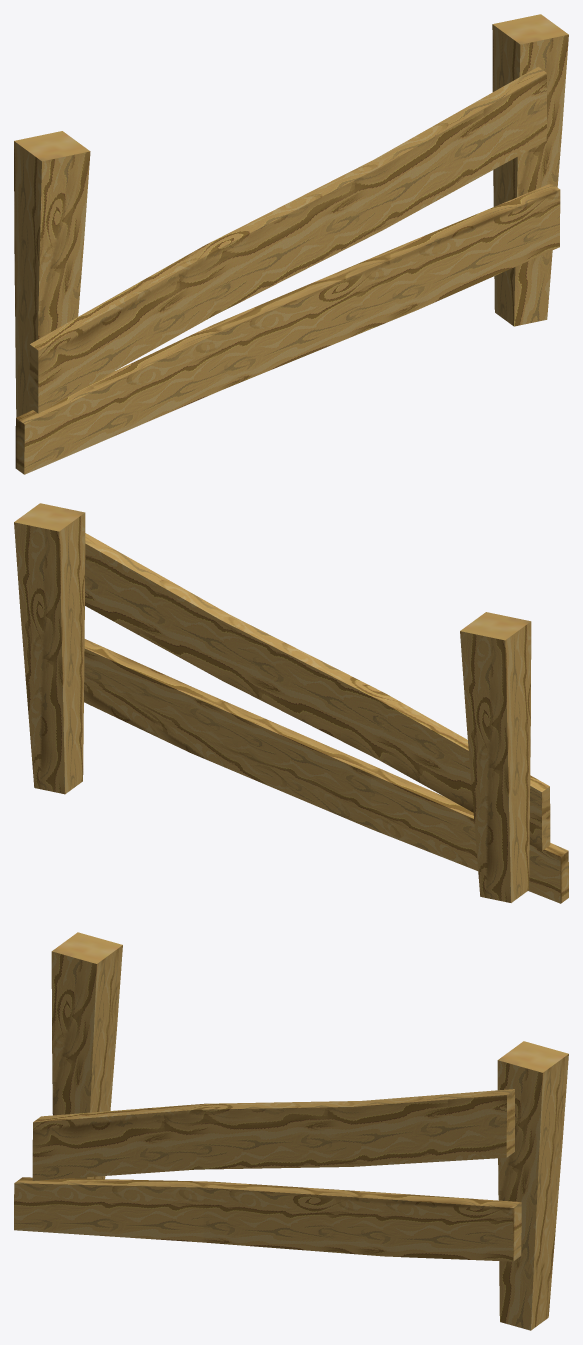
The model's file is Fence_02.FBX.
The picture shows the model from 3 angles, top to bottom: view 1: azimuth 30°, elevation 25°; view 2: azimuth 150°, elevation 25°; view 3: azimuth 330°, elevation 25°; orthographic projection. The views are drawn at different scales.
Visible parts, largest first — view 1: Fence_02; view 2: Fence_02; view 3: Fence_02.
Boxes of the visible parts, box(x1,y1,x2,y2) form: Fence_02: box(14, 14, 568, 474); Fence_02: box(14, 503, 568, 903); Fence_02: box(14, 932, 568, 1330).
Size of the model in its own units: 204 by 105 by 25.12.
